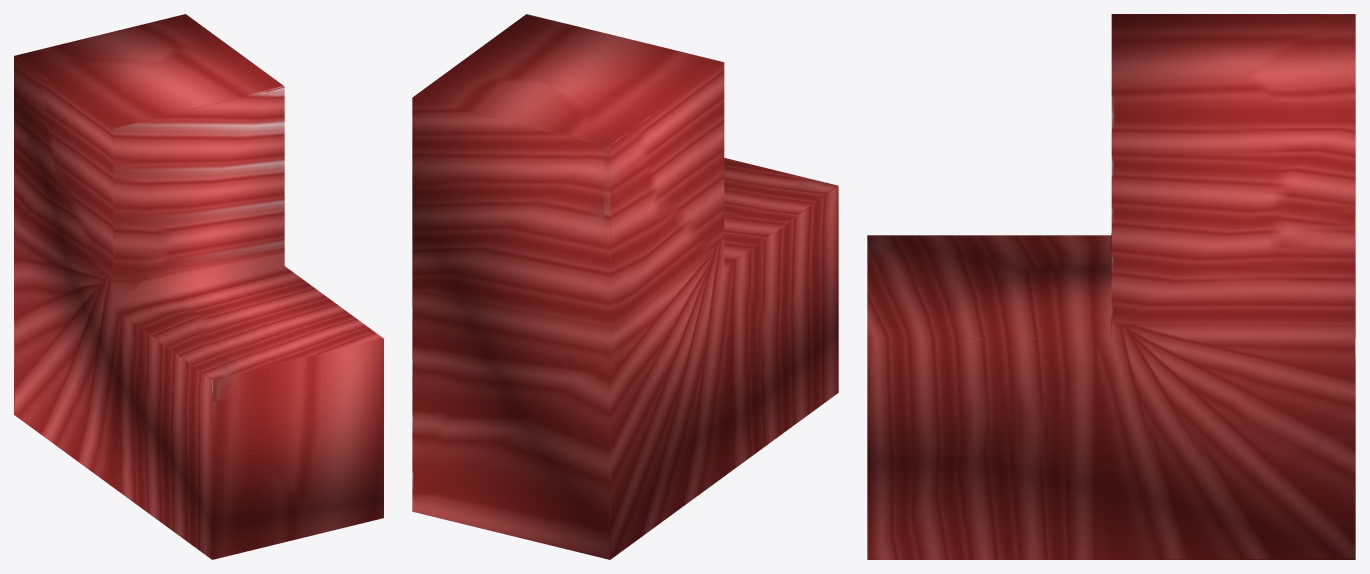
Rendered from piece3(Texture).fbx.
The picture shows the model from 3 angles, left to right: view 1: azimuth 30°, elevation 25°; view 2: azimuth 150°, elevation 25°; view 3: azimuth 270°, elevation 25°; orthographic projection. The views are drawn at different scales.
Parts seen in each view (by area): view 1: Cube; view 2: Cube; view 3: Cube.
Part boxes in pixels (x1,y1,x2,y2): Cube: [14, 14, 383, 559]; Cube: [412, 14, 838, 559]; Cube: [867, 14, 1355, 559].
Bounding box in the file's own units: 1 × 2 × 2.
Materials: 1 (1 with a texture image).
